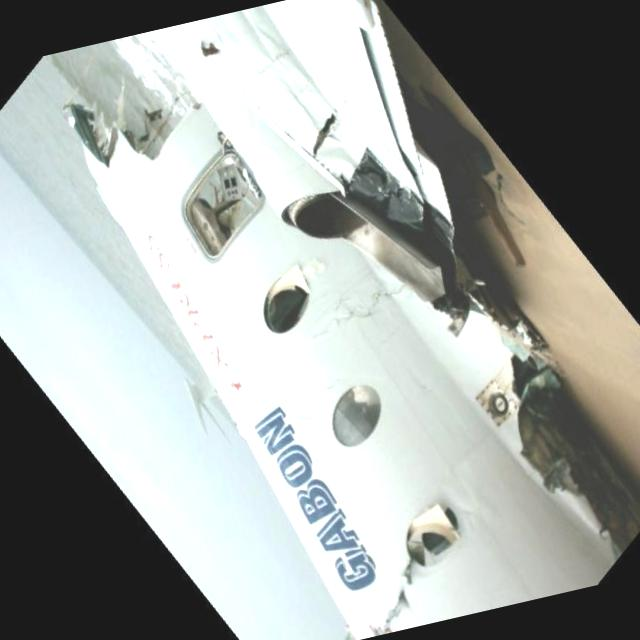crack: (303, 281, 422, 343), (359, 556, 427, 634), (282, 391, 341, 426), (304, 106, 343, 154), (224, 380, 257, 429)
